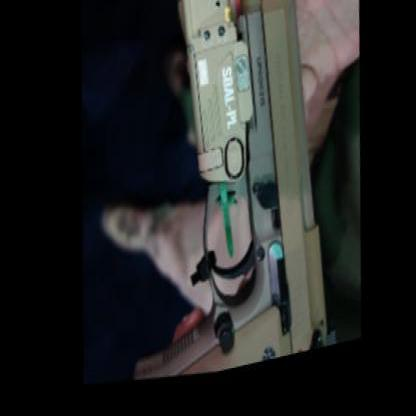pistol: (105, 0, 357, 393)
